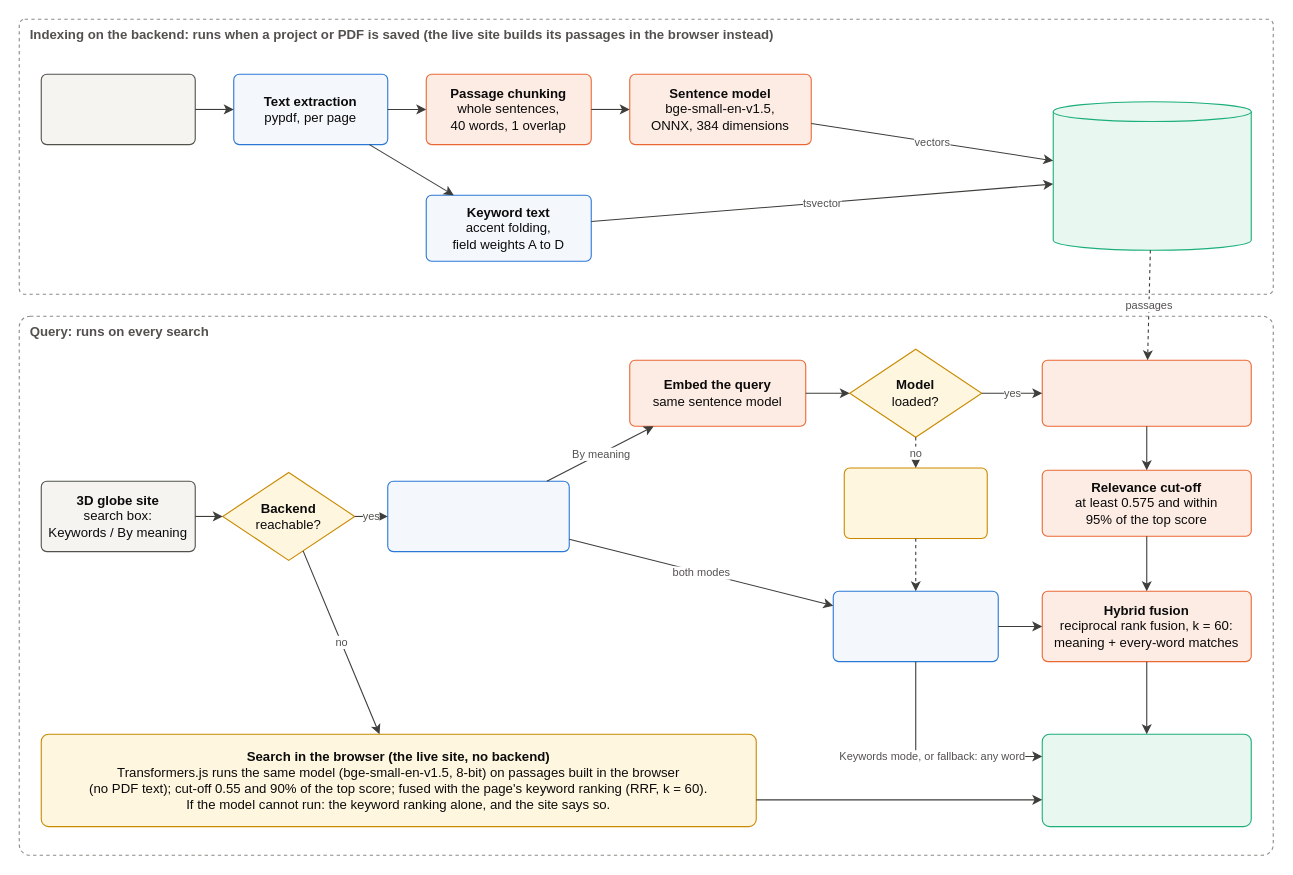
The diagram is 1293 pixels wide and 875 high, and some of its shapes have lost their labels. Each missing label, with the centre of its shape:
"Admin upload project text, narration, PDF" belongs at point 117,109.
"Fallback skip meaning, return keyword results only" belongs at point 915,502.
"FastAPI GET /api/projects/search mode, limit" belongs at point 478,516.
"Keyword search to_tsquery, stems and prefixes, ts_rank_cd" belongs at point 915,626.
"PostgreSQL search_chunks: vector(384), HNSW projects.search_tsv: tsvector, GIN" belongs at point 1151,175.
"Ranked projects passage, similarity, matched_by, mode_used" belongs at point 1146,780.
"Vector search pgvector HNSW, cosine (numpy without pgvector)" belongs at point 1146,392.
